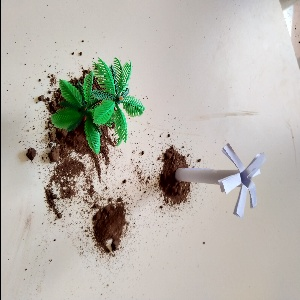plant: (53, 61, 140, 147)
weed: (174, 144, 265, 210)
